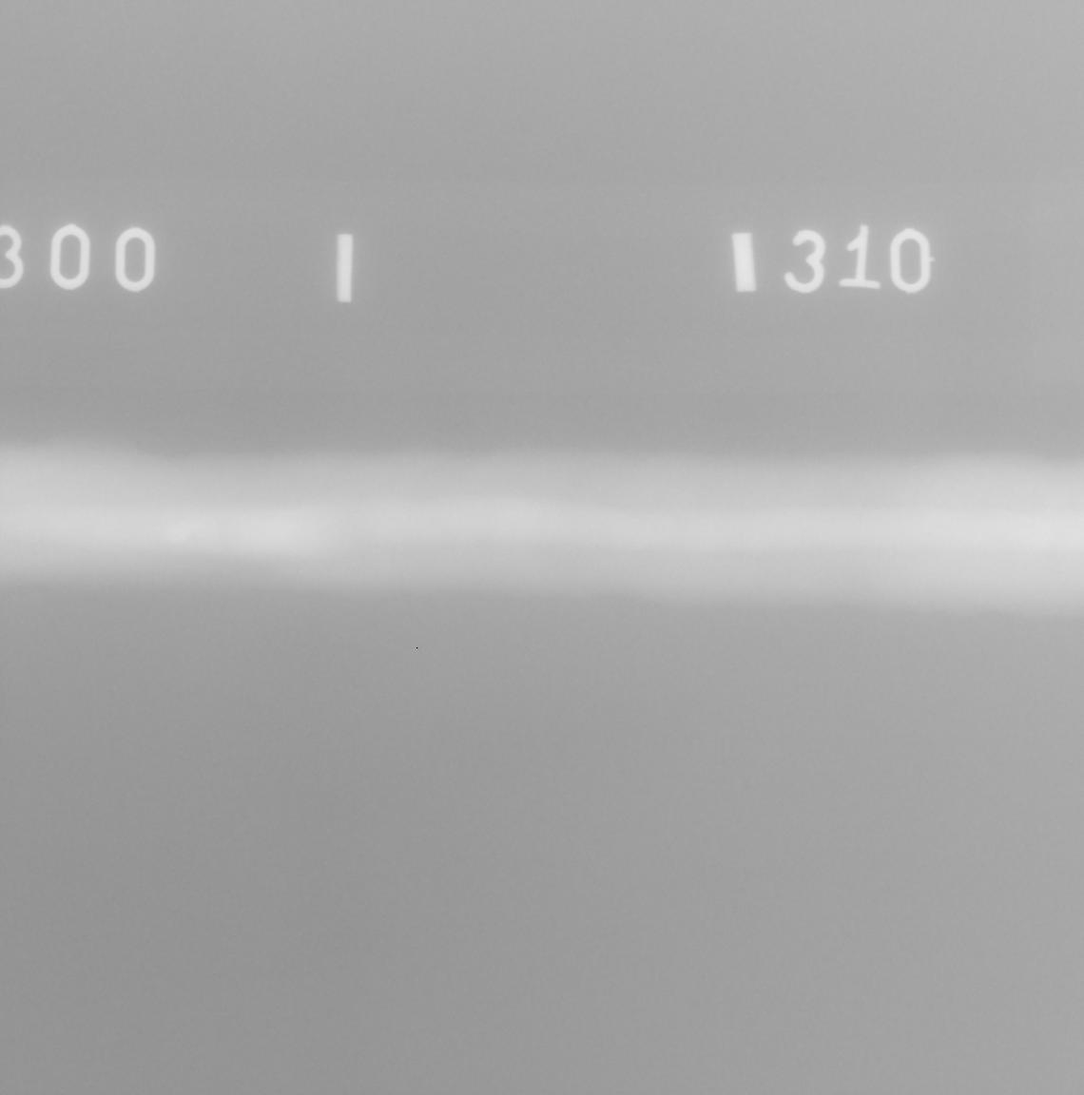Pore/Porosity: (32, 551, 39, 557)
